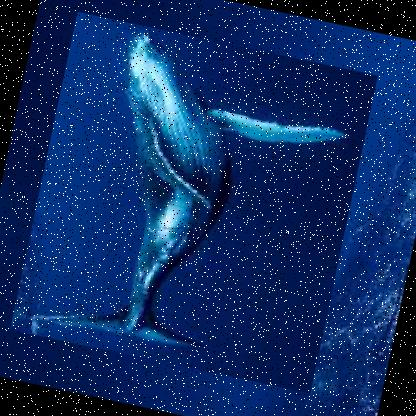blue_whale: (9, 10, 378, 392)
